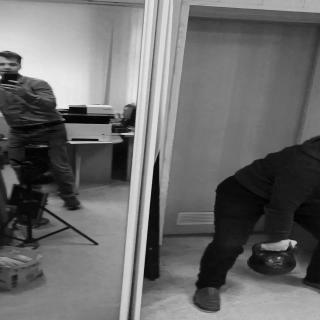kettlebell: (246, 242, 301, 279)
